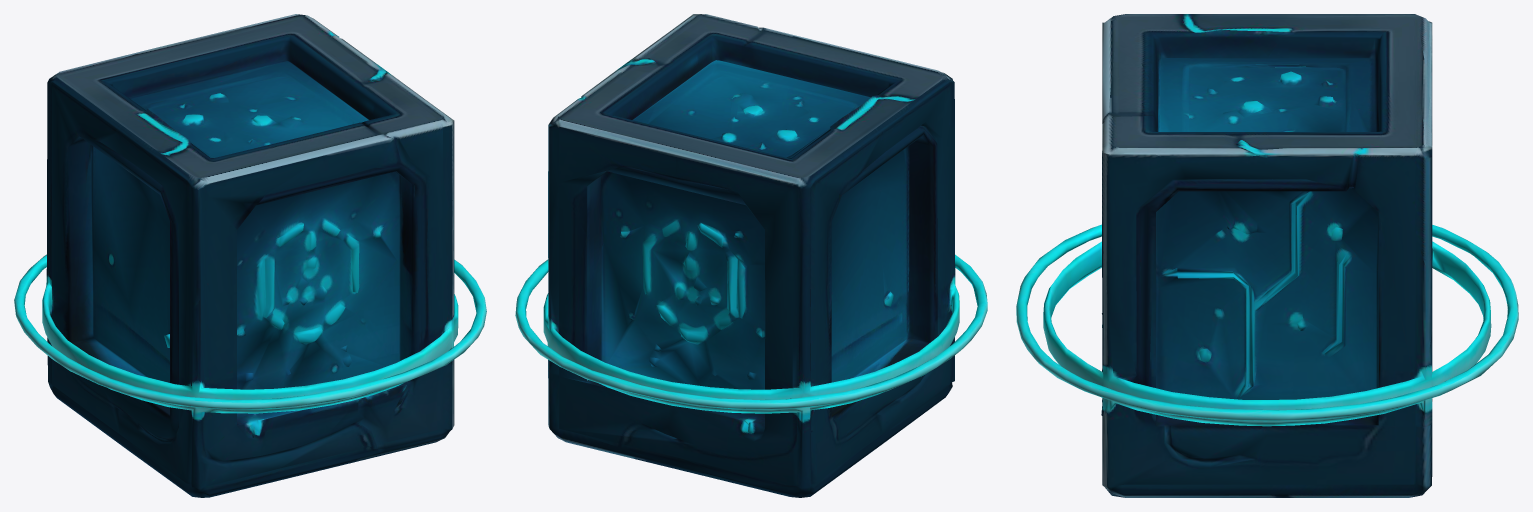
Rendered from Eco-Memorias.fbx.
The picture shows the model from 3 angles, left to right: view 1: azimuth 30°, elevation 25°; view 2: azimuth 150°, elevation 25°; view 3: azimuth 270°, elevation 25°; orthographic projection. The views are drawn at different scales.
Parts seen in each view (by area): view 1: tripo_node_810506d0; view 2: tripo_node_810506d0; view 3: tripo_node_810506d0.
Boxes of the visible parts, x1=… form: tripo_node_810506d0: x1=14, y1=14, x2=486, y2=497; tripo_node_810506d0: x1=515, y1=14, x2=987, y2=497; tripo_node_810506d0: x1=1016, y1=14, x2=1518, y2=497.
Bounding box in the file's own units: 0.9992 × 0.7708 × 0.9991.
1 material, 1 textured.
